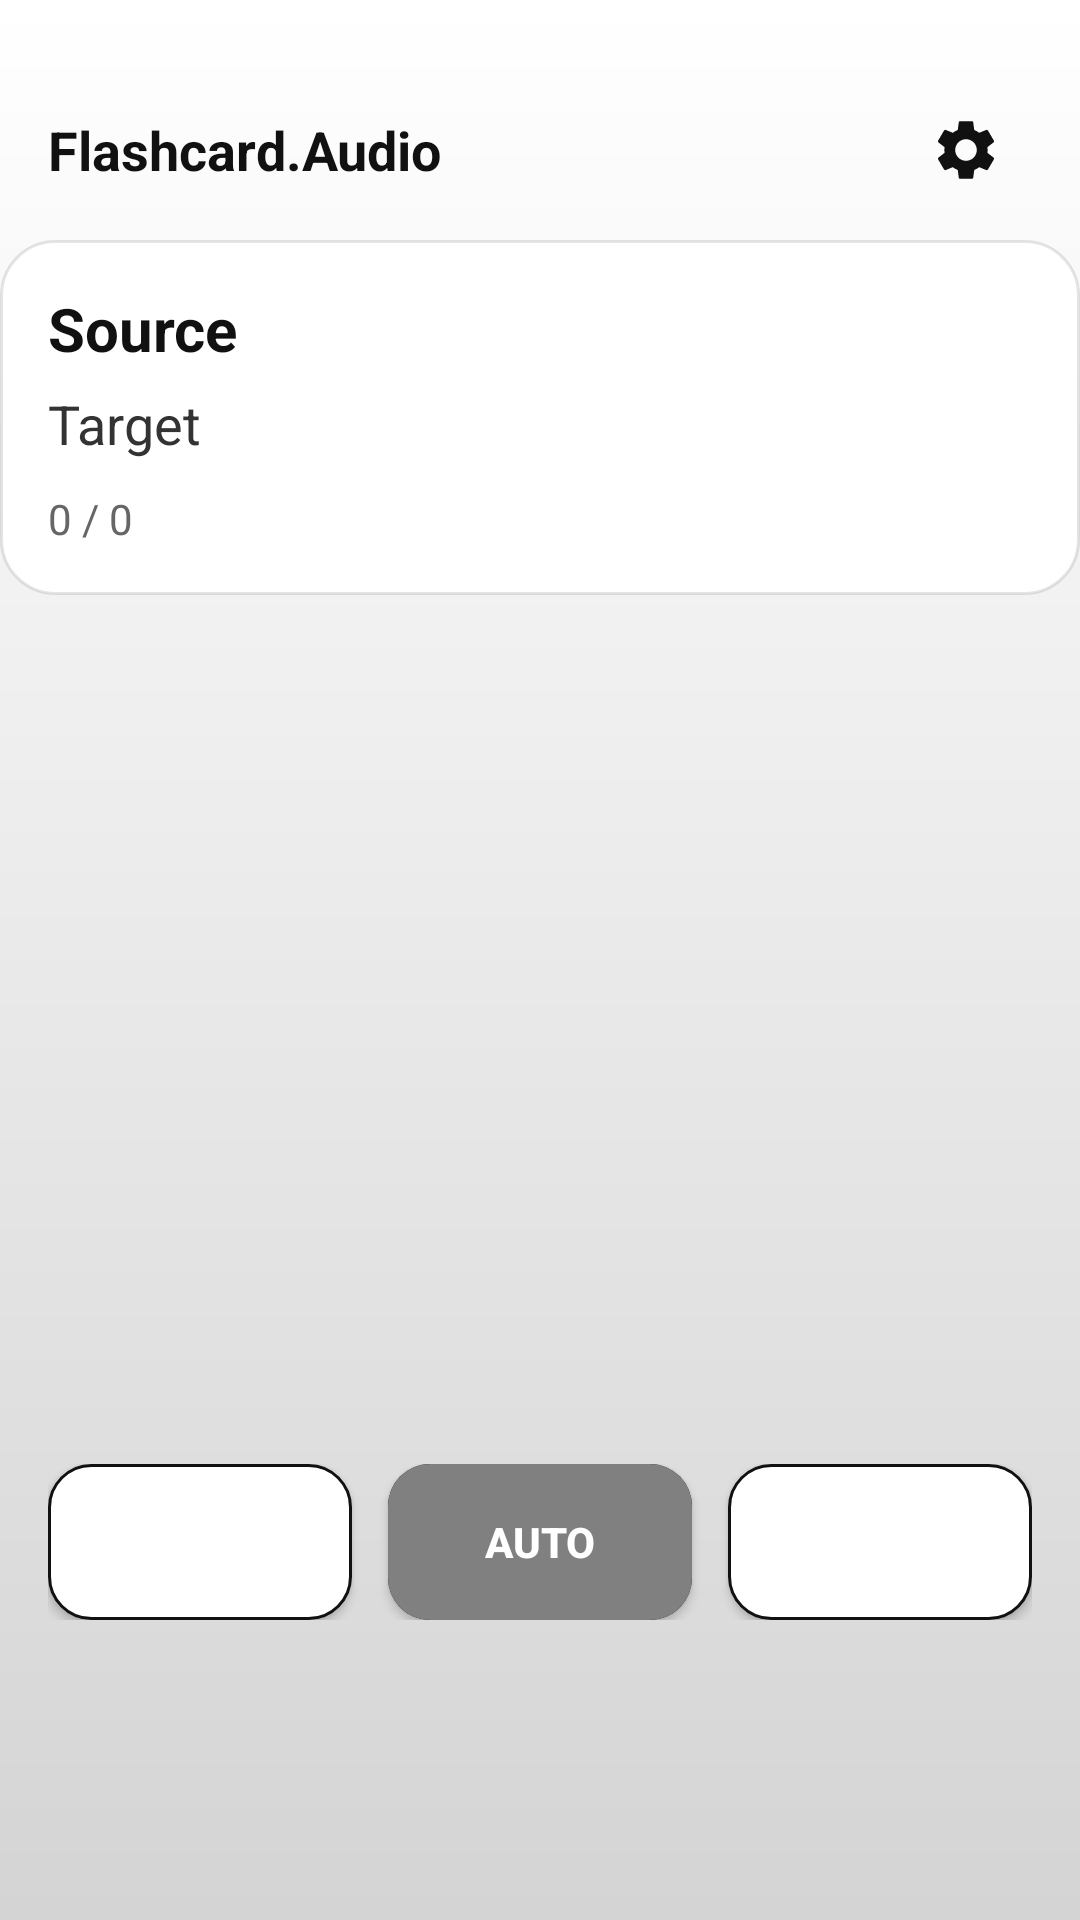

Locate icon controls on the screen. Image size 1080w x 1920h, boxes as (x1, y1, x2, y2).
Settings: (938, 121, 994, 179)
